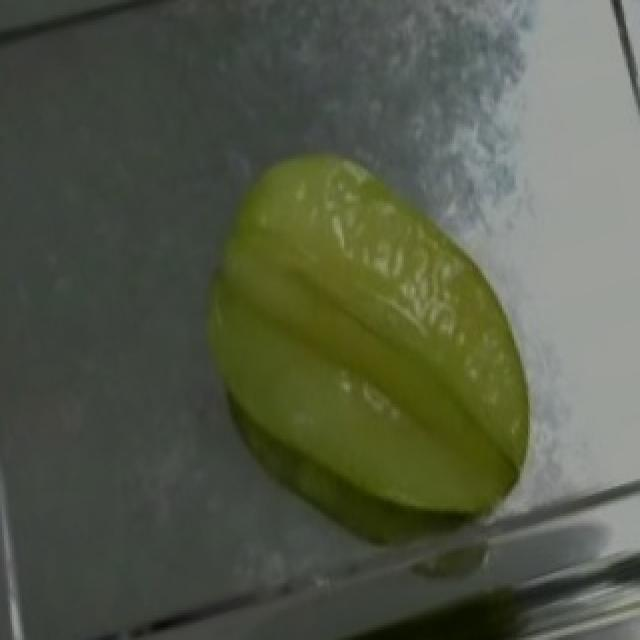fruit: (190, 112, 562, 526)
